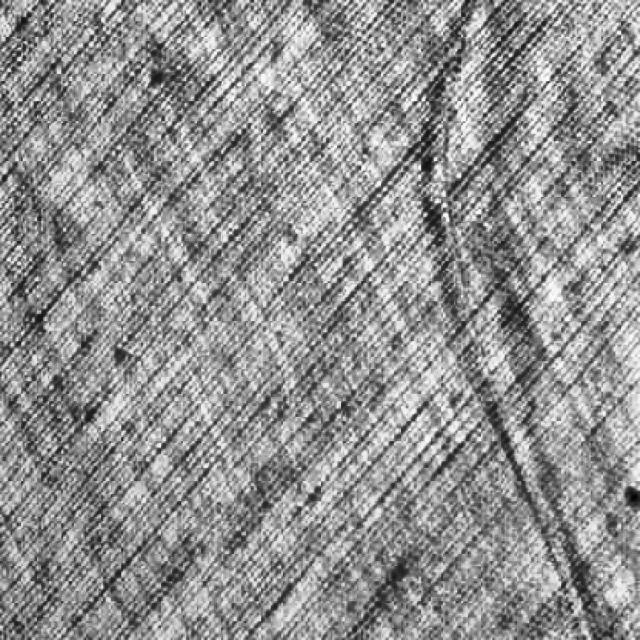thread_error: (397, 0, 611, 640)
